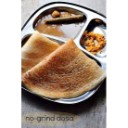dosa: (22, 31, 102, 93)
